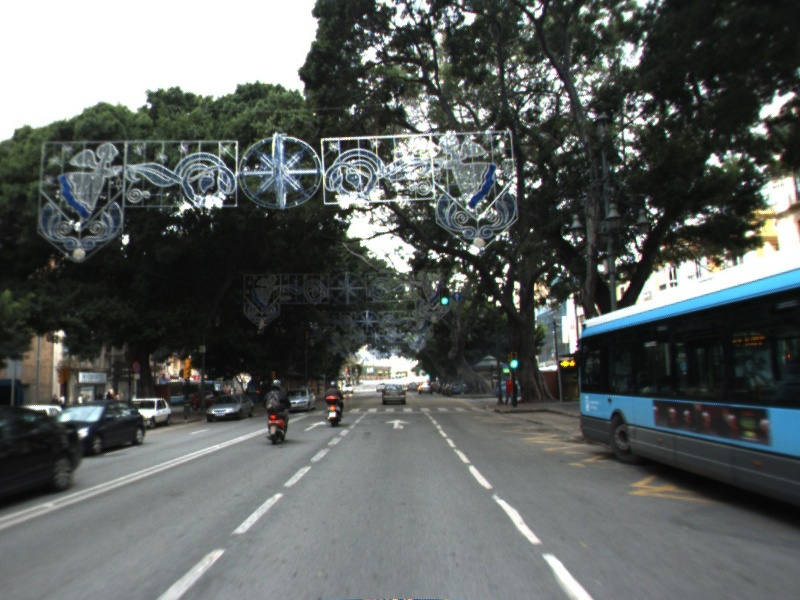STRAIGHT: (384, 417, 412, 431), (302, 419, 329, 433)
